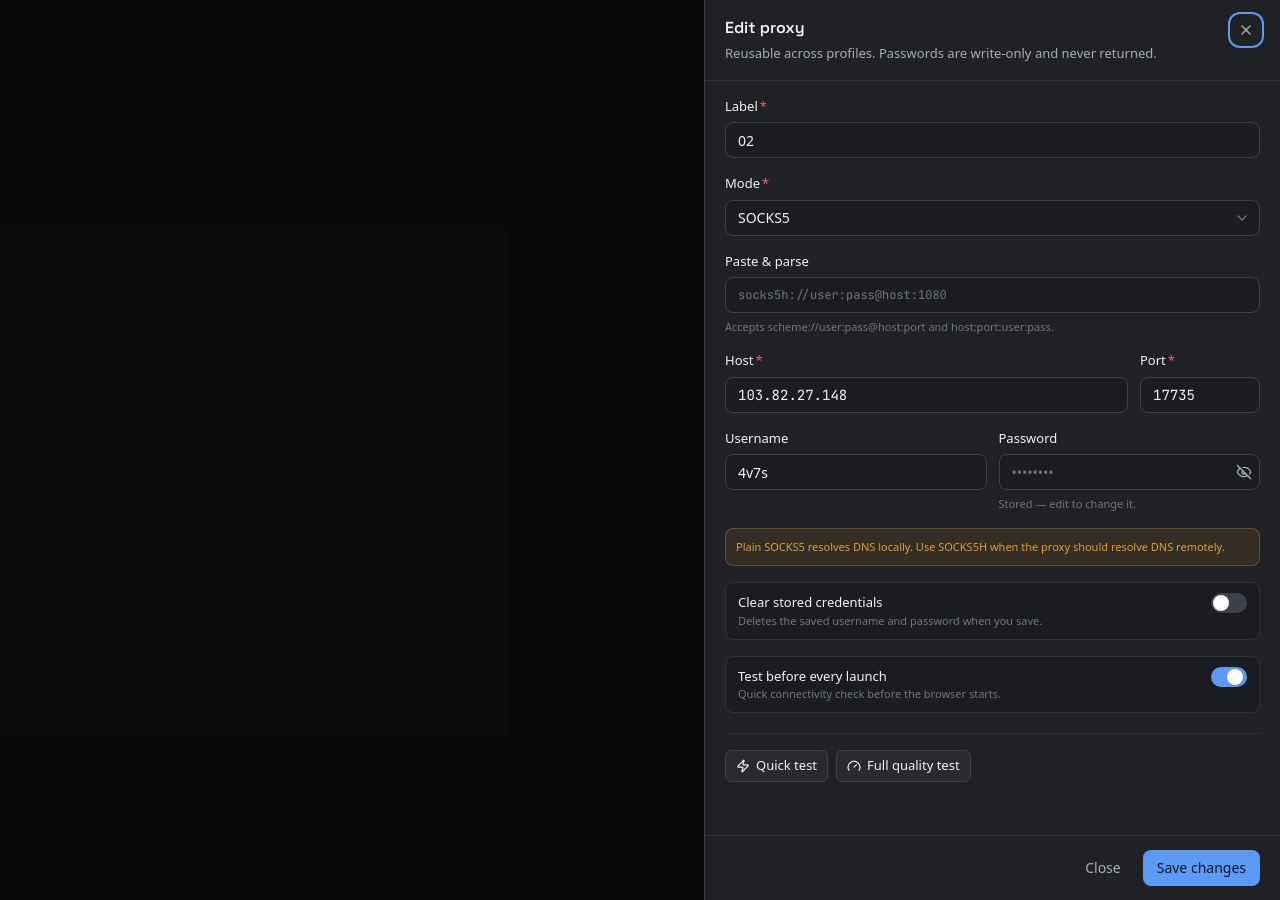
Scenario: ProxyEditorDrawer authoritative testing › keeps typed values and the error visible when quality testing fails
The image size is (1280, 900).
Replace the text in the 2nd field with placeholder "proxy.example" with "198.51.100.42": point(926, 394) [725,376,1128,412]
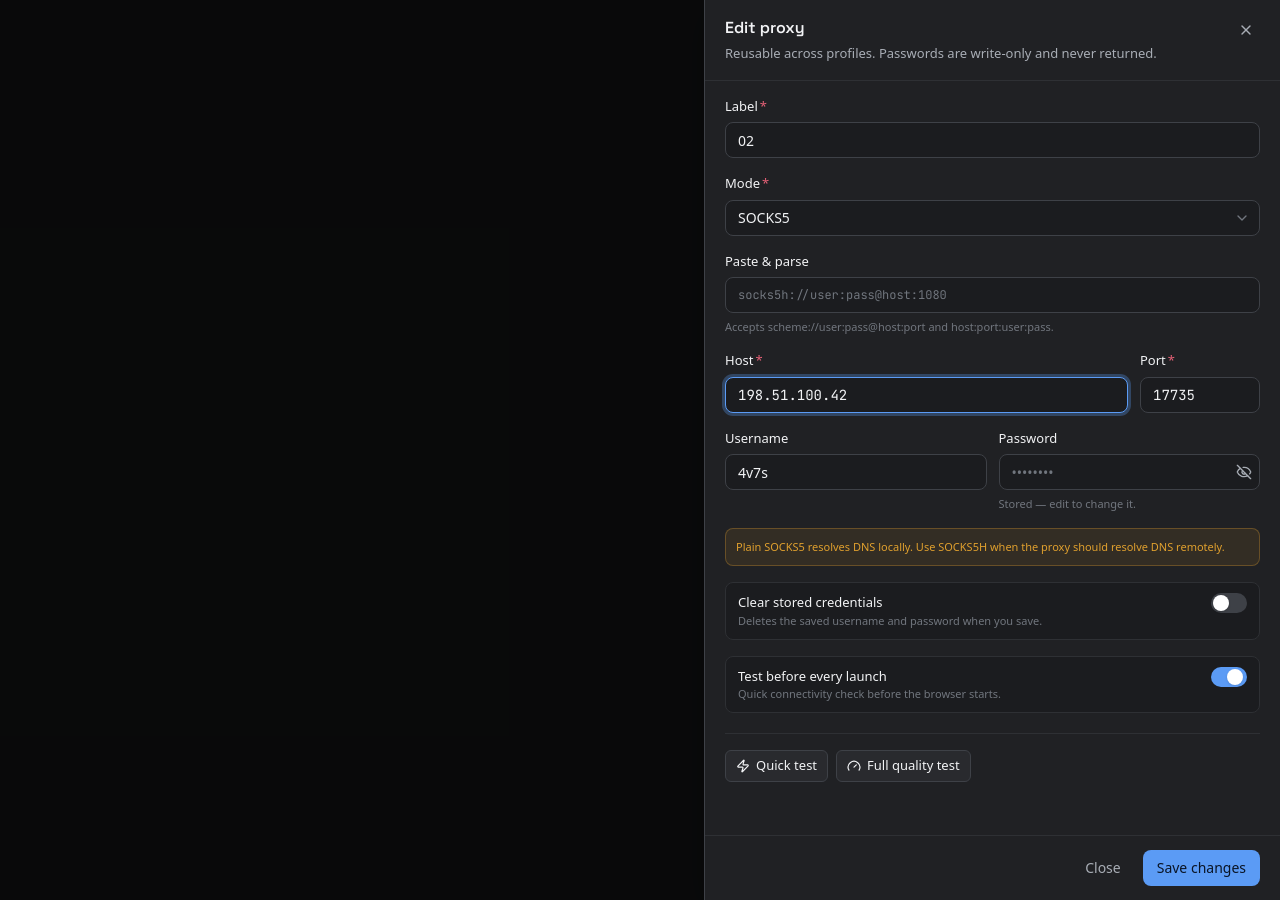
In the field named "Password": point(1129, 472) [998,454,1260,490], type "replacement-secret"
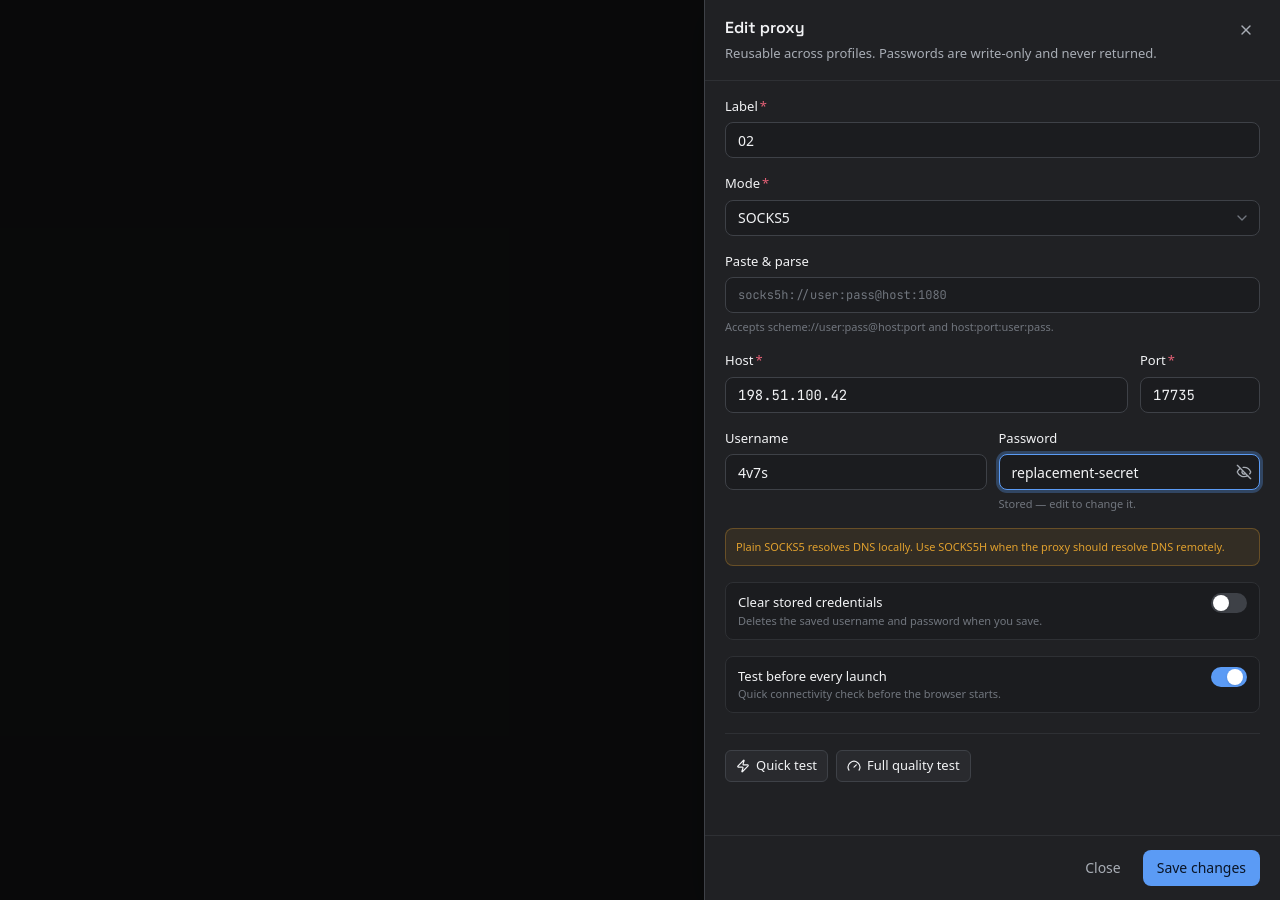
Click the button "Full quality test": point(903, 766) [836,750,971,782]
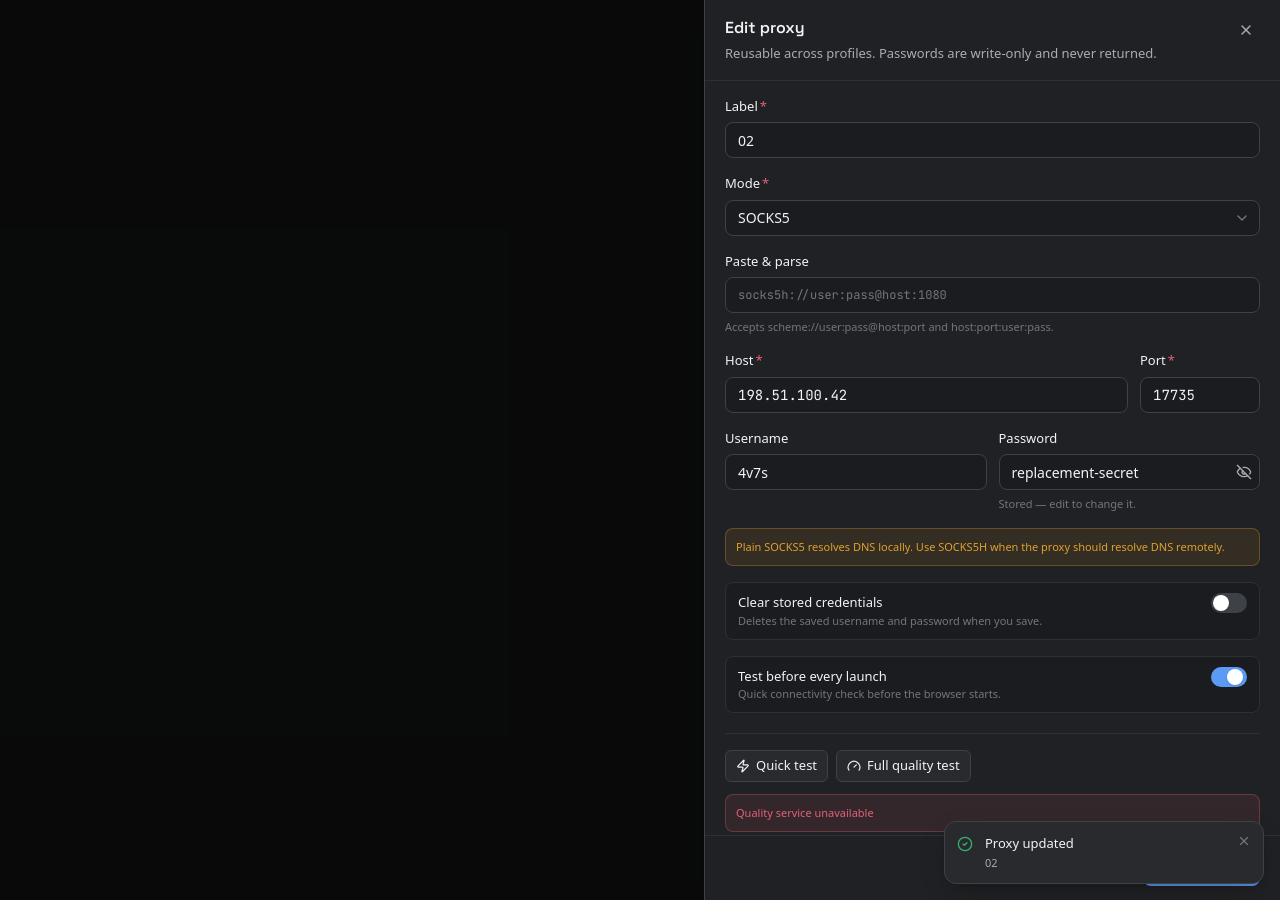
Now the text "Quality service unavailable" is shown, box [725,794,1260,832]
